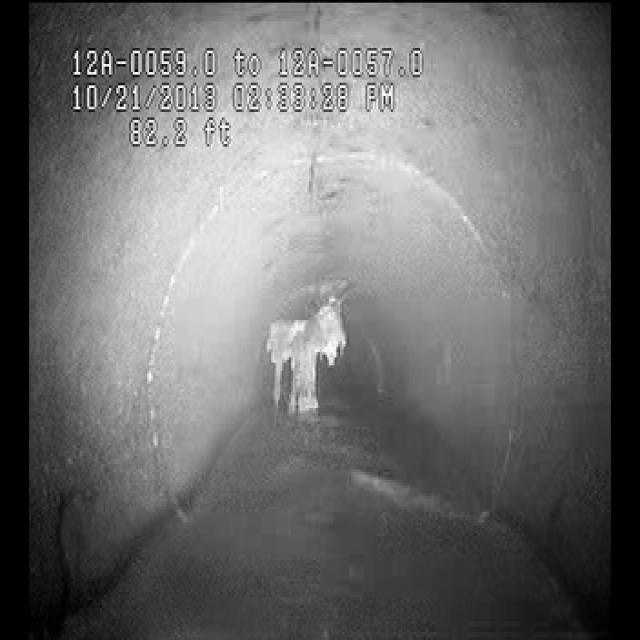Crack: (44, 471, 104, 595)
